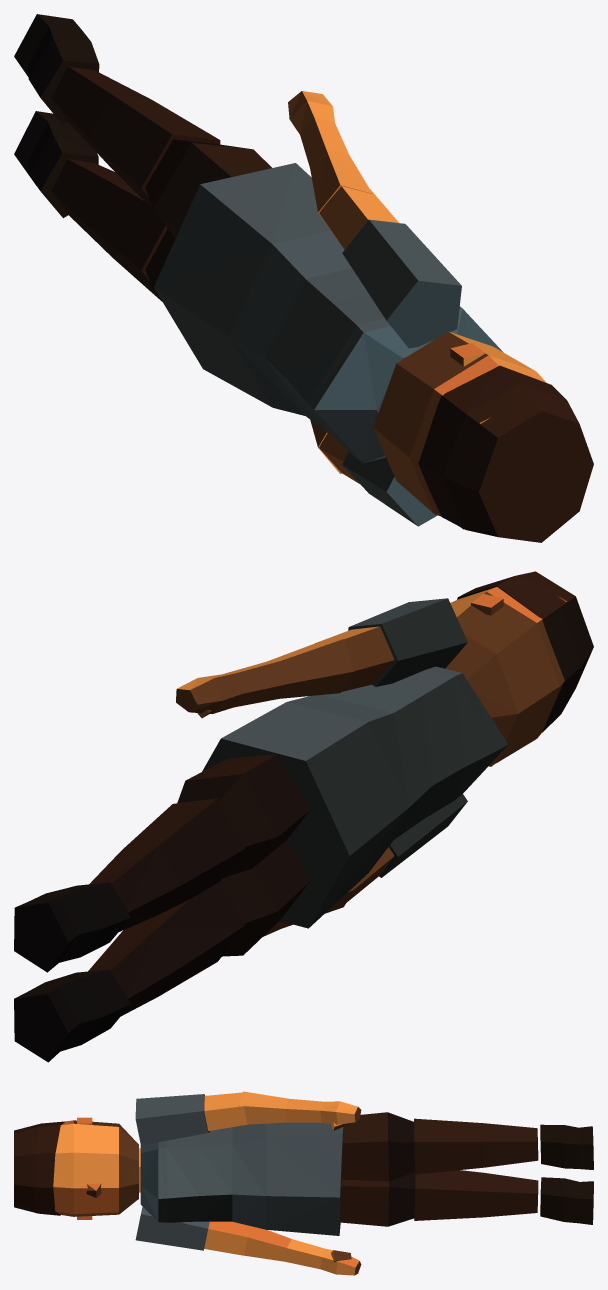
File: villager.obj
3 renders of one model, top to bottom at view 1: azimuth 30°, elevation 25°; view 2: azimuth 150°, elevation 25°; view 3: azimuth 270°, elevation 25°, orthographic. The views are drawn at different scales.
Parts seen in each view (by area): view 1: vg_villager; view 2: vg_villager; view 3: vg_villager.
Boxes of the visible parts, <box> form: vg_villager: <box>14,14,593,542</box>; vg_villager: <box>14,571,593,1062</box>; vg_villager: <box>14,1091,593,1275</box>.
Bounding box in the file's own units: 0.22 × 0.3242 × 0.9929.
